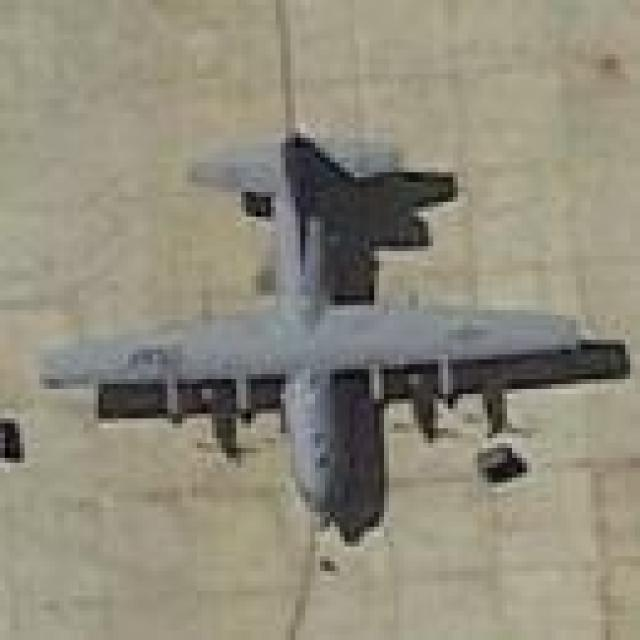C-130_TopDown: (36, 125, 634, 550)
